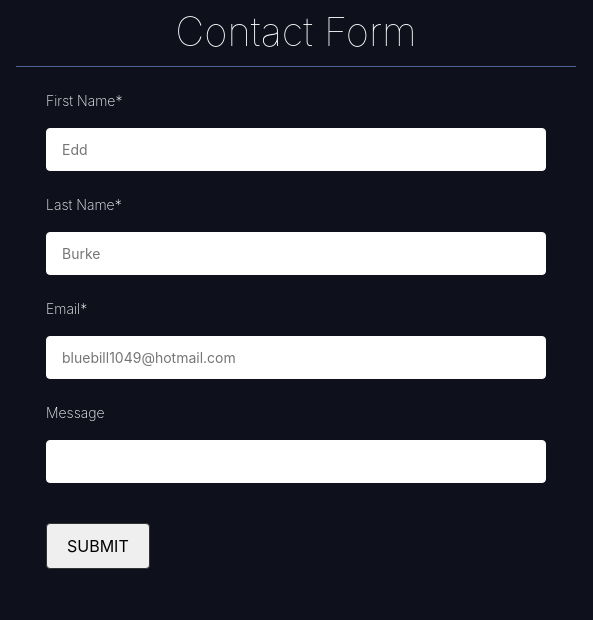
it: renders ONE error message if user enters less then 5 characters into firstname.
Type "123" into the field labelled "First Name*" at (296, 150), box [46, 128, 546, 171]
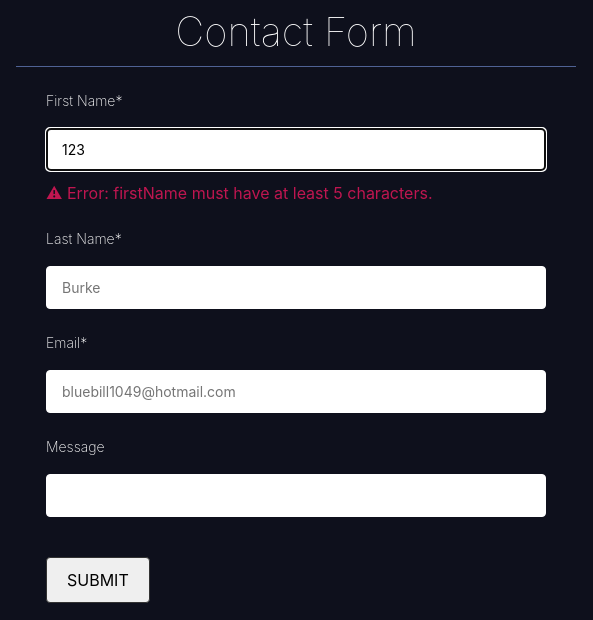
Check: the number of elements with test id "error" is 1, box [67, 183, 432, 203]
